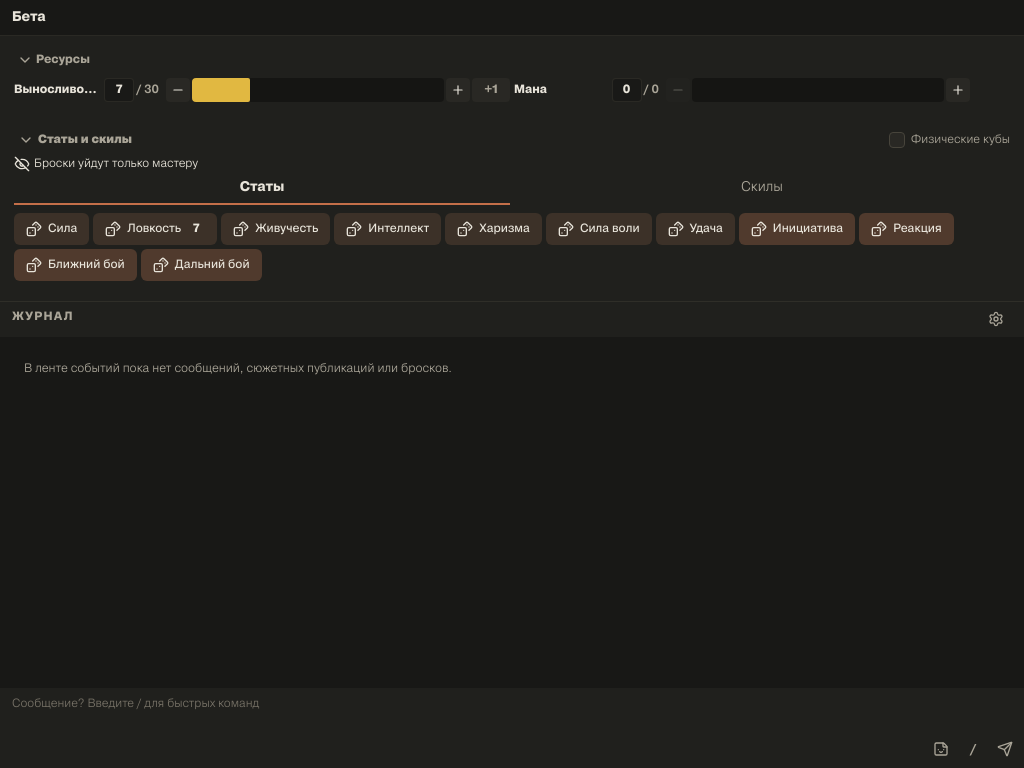
Scenario: ActivityPanel action context (UIX-621) › keeps action-specific feedback for a server-provided explanation
The width and height of the screenshot is (1024, 768).
Type "Черновик" into the text box named "Сообщение или бросок".
click(512, 728); type("Черновик")  # box 12,696 -> 1012,760
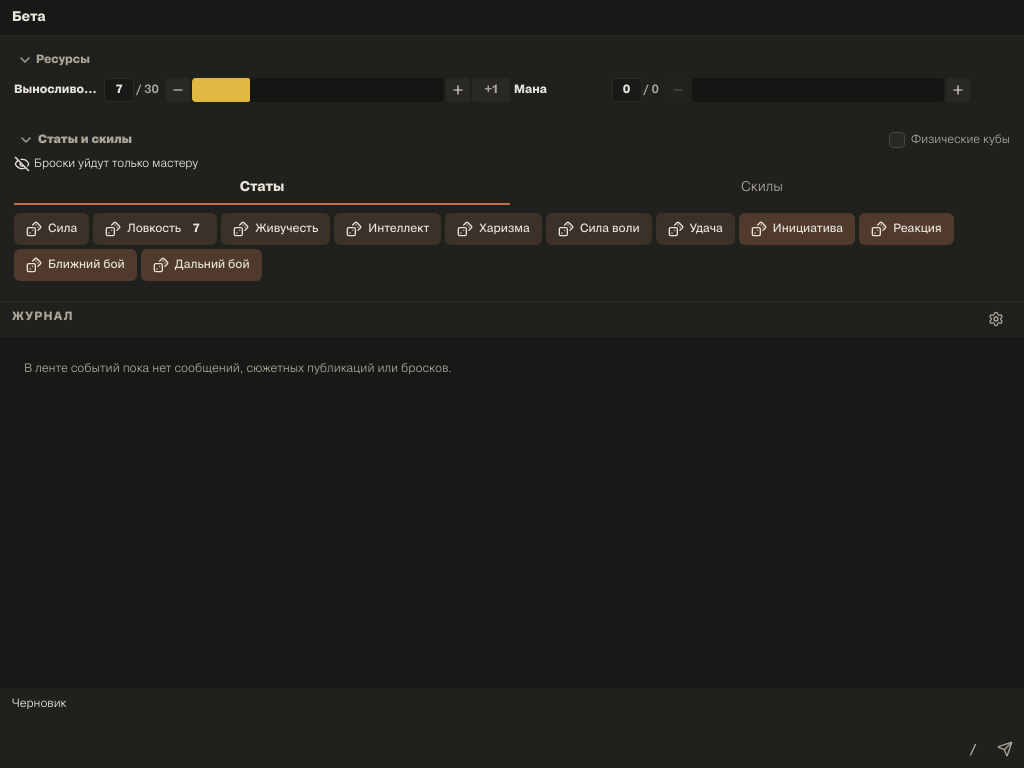
Click the button named "Отправить.".
click(1005, 749)  # box 990,734 -> 1020,764
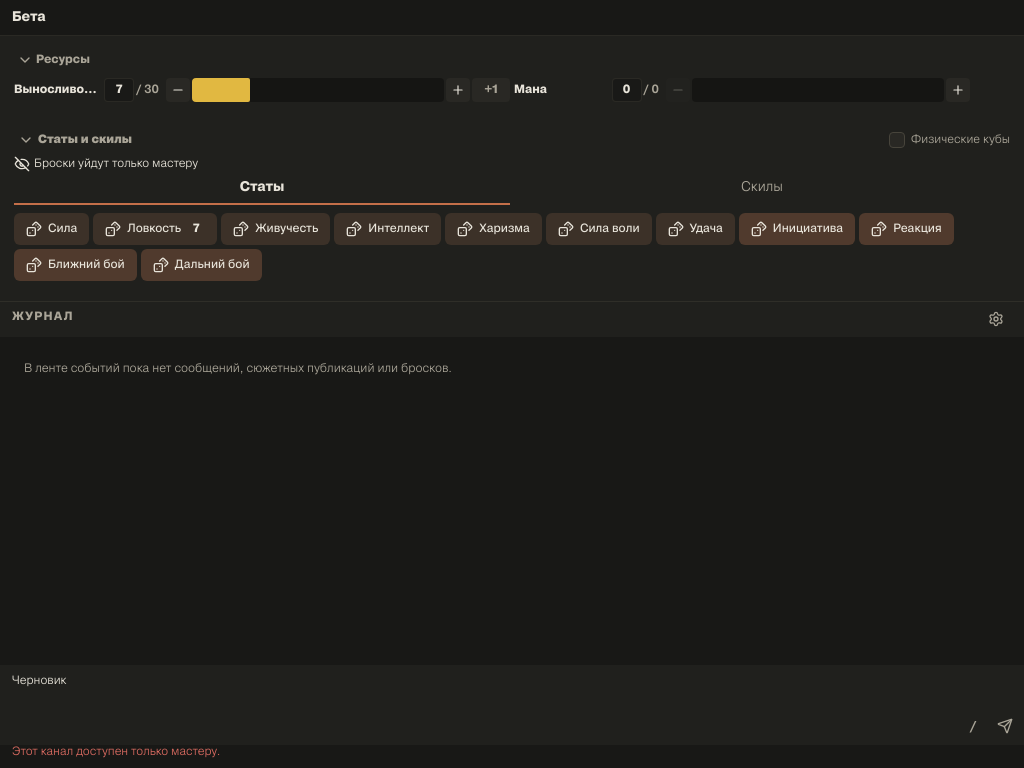
Result: the message "Этот канал доступен только мастеру." is shown at 12,747 -> 220,757
